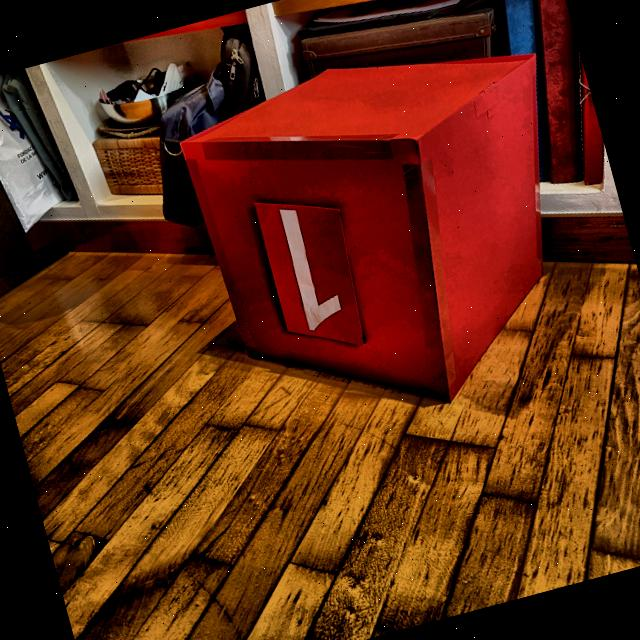one: (274, 196, 349, 336)
red box: (170, 11, 621, 454)
